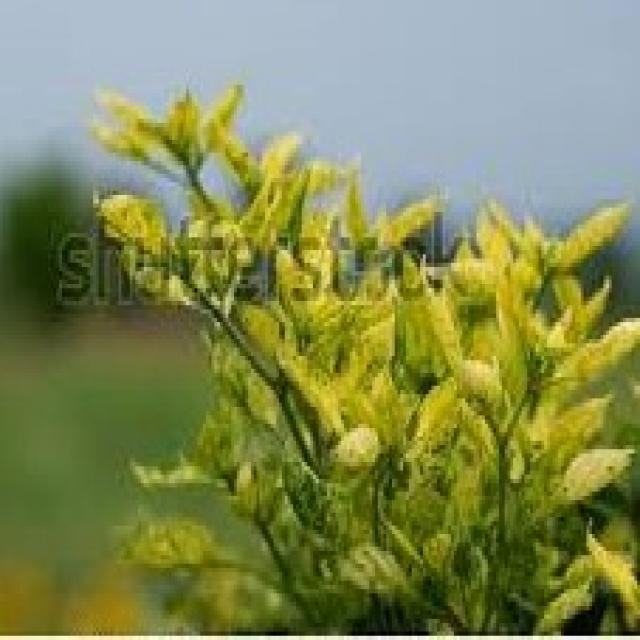virus_kuning: (545, 196, 630, 276), (560, 438, 634, 512)
